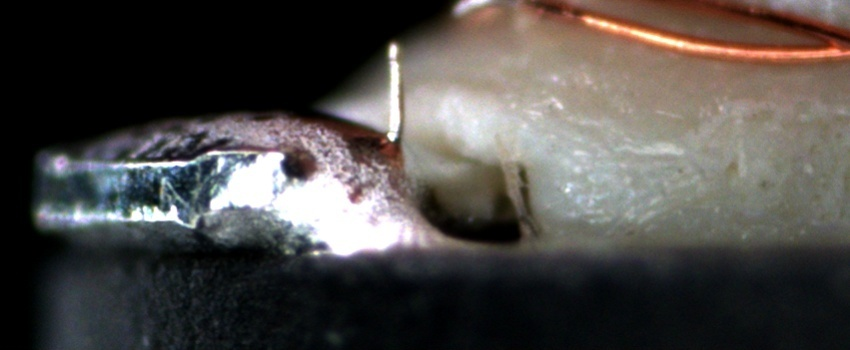DL: (575, 134, 686, 185)
